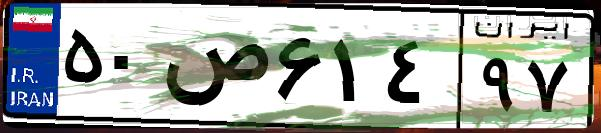0: (110, 28, 158, 98)
1: (330, 28, 385, 110)
4: (385, 28, 445, 110)
5: (57, 26, 110, 100)
6: (270, 28, 330, 110)
7: (525, 38, 570, 115)
9: (475, 38, 525, 113)
ص: (158, 20, 270, 120)
